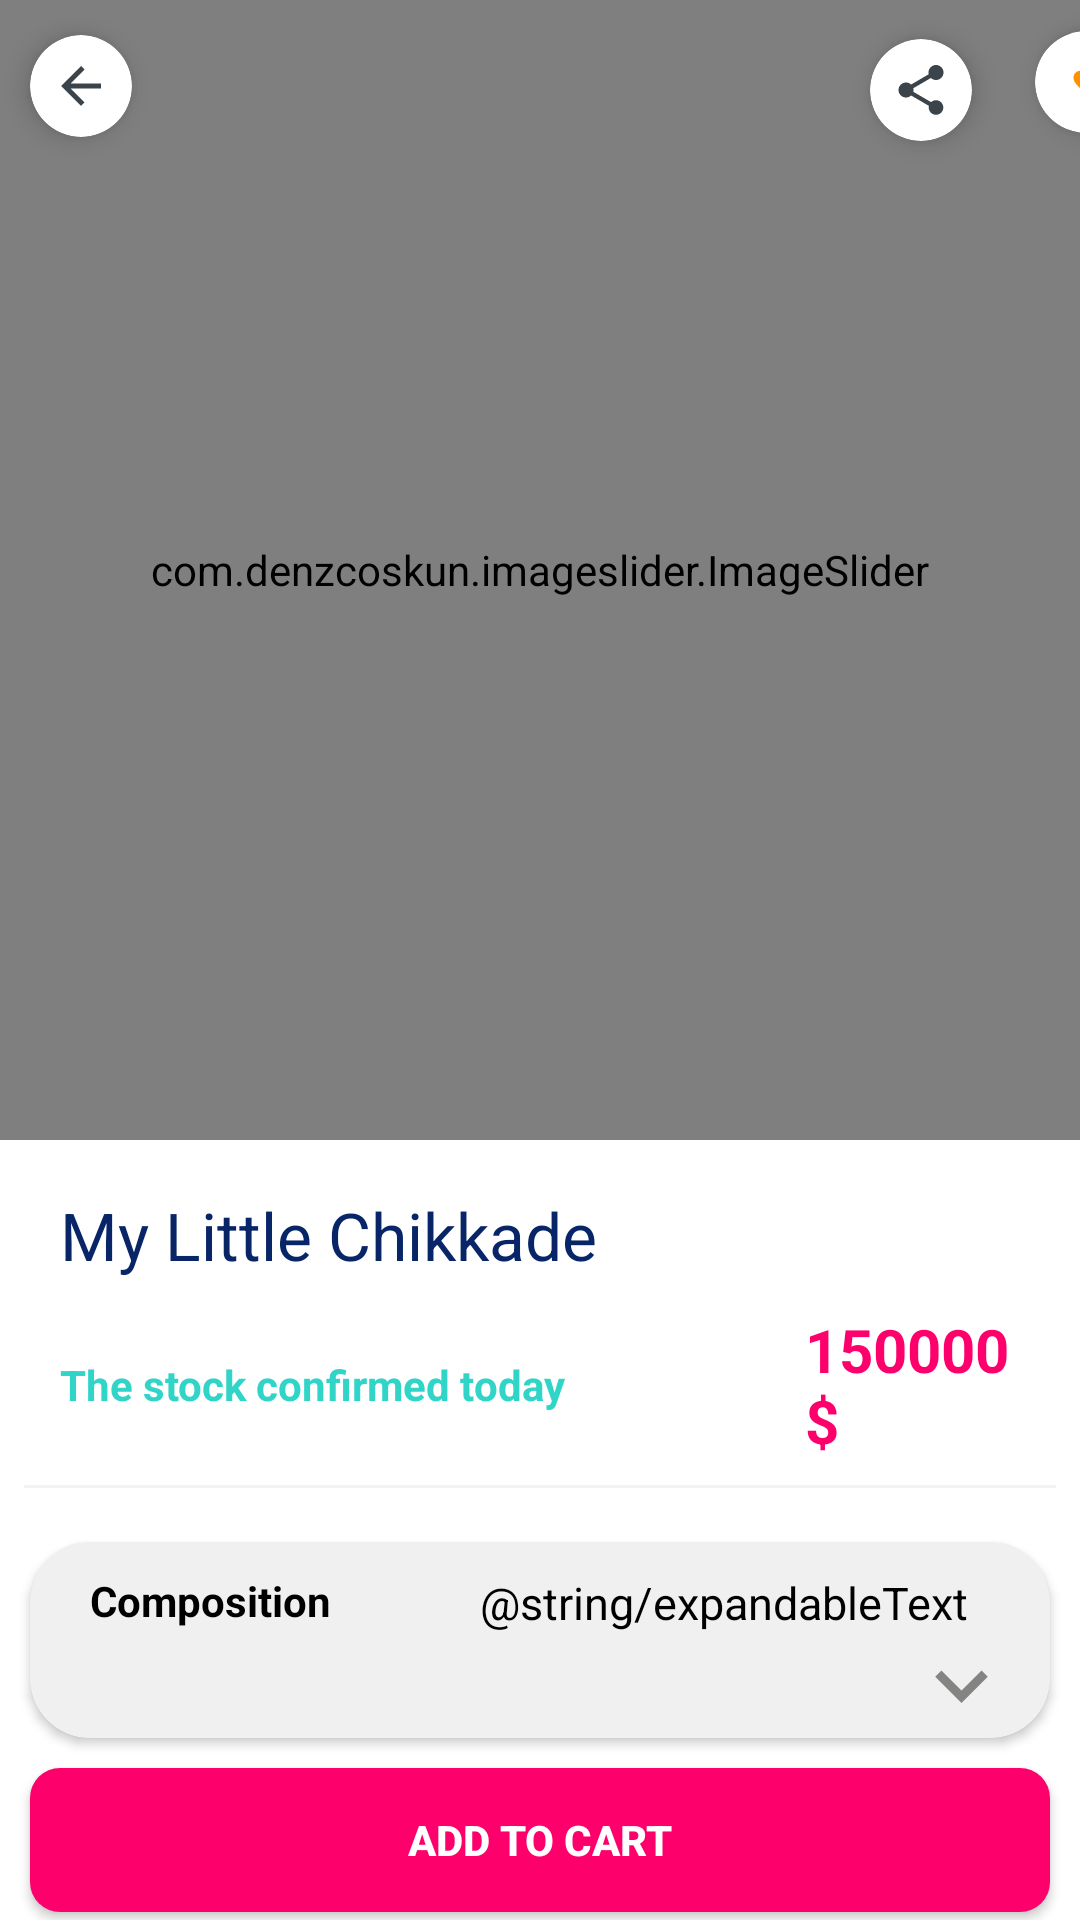

Where icons sit on this 1080 × 1920 app screen, as bbox(x1, y1, x2, y2):
more: bbox(935, 1670, 988, 1703)
sharee: bbox(898, 65, 944, 115)
